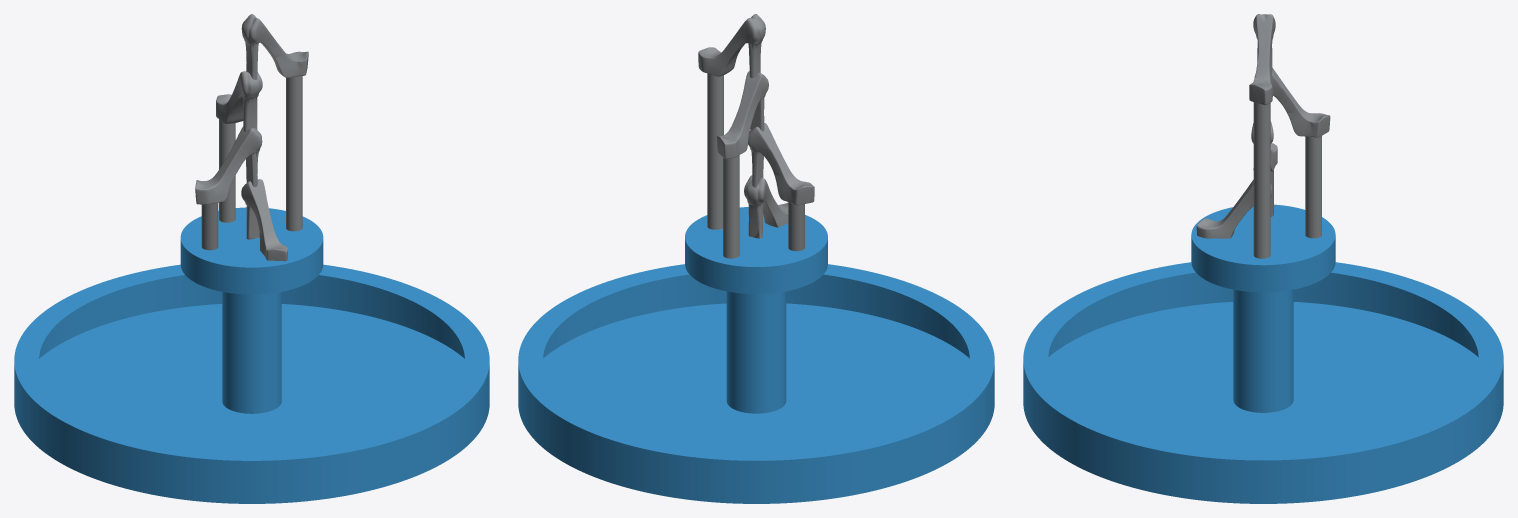
Rendered from Tugu-Kelom-Geulis-Gobras.glb.
The picture shows the model from 3 angles, left to right: view 1: azimuth 30°, elevation 25°; view 2: azimuth 150°, elevation 25°; view 3: azimuth 270°, elevation 25°; orthographic projection.
Visible parts, largest first — view 1: Cylinder.bawah, Cylinder.atas, Cylinder.tengah, Cylinder.tengah.002, kelom 2, kelom 4, kelom 1, kelom 3, Cylinder.tengah.003, Cylinder.tengah.001; view 2: Cylinder.bawah, Cylinder.atas, Cylinder.tengah, Cylinder.tengah.002, kelom 2, kelom 3, kelom 4, Cylinder.tengah.003, kelom 1, Cylinder.tengah.001; view 3: Cylinder.bawah, Cylinder.atas, Cylinder.tengah, Cylinder.tengah.002, kelom 4, Cylinder.tengah.003, kelom 3, kelom 1.
Boxes of the visible parts, <box> form: Cylinder.bawah: <box>14,264,489,503</box>; Cylinder.atas: <box>180,207,323,294</box>; Cylinder.tengah: <box>222,292,281,413</box>; Cylinder.tengah.002: <box>286,76,302,231</box>; kelom 2: <box>195,126,262,204</box>; kelom 4: <box>241,14,308,79</box>; kelom 1: <box>241,179,287,261</box>; kelom 3: <box>216,71,262,131</box>; Cylinder.tengah.003: <box>219,119,235,222</box>; Cylinder.tengah.001: <box>201,202,218,250</box>; Cylinder.bawah: <box>518,264,994,503</box>; Cylinder.atas: <box>685,207,827,293</box>; Cylinder.tengah: <box>726,291,786,413</box>; Cylinder.tengah.002: <box>707,73,723,229</box>; kelom 2: <box>748,123,814,205</box>; kelom 3: <box>716,71,768,159</box>; kelom 4: <box>698,14,765,78</box>; Cylinder.tengah.003: <box>723,155,739,258</box>; kelom 1: <box>744,175,788,238</box>; Cylinder.tengah.001: <box>788,202,804,251</box>; Cylinder.bawah: <box>1023,262,1503,503</box>; Cylinder.atas: <box>1191,204,1335,292</box>; Cylinder.tengah: <box>1233,289,1293,412</box>; Cylinder.tengah.002: <box>1253,102,1270,258</box>; kelom 4: <box>1249,14,1275,105</box>; Cylinder.tengah.003: <box>1305,136,1321,238</box>; kelom 3: <box>1254,68,1330,137</box>; kelom 1: <box>1196,180,1272,238</box>.
Bounding box in the file's own units: 2.78 × 2.49 × 2.78.
